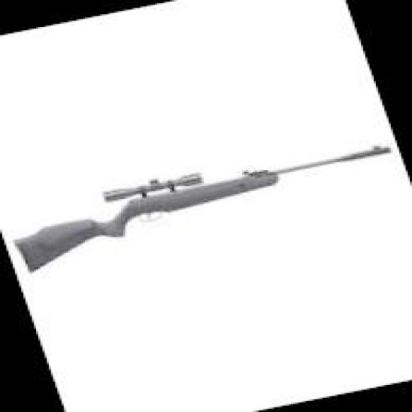Gun: (0, 137, 395, 271)
